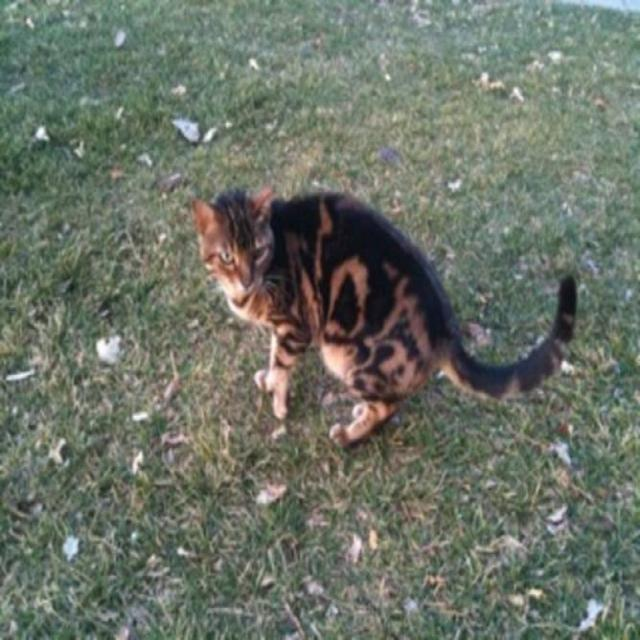Bengal: (195, 185, 273, 295)
